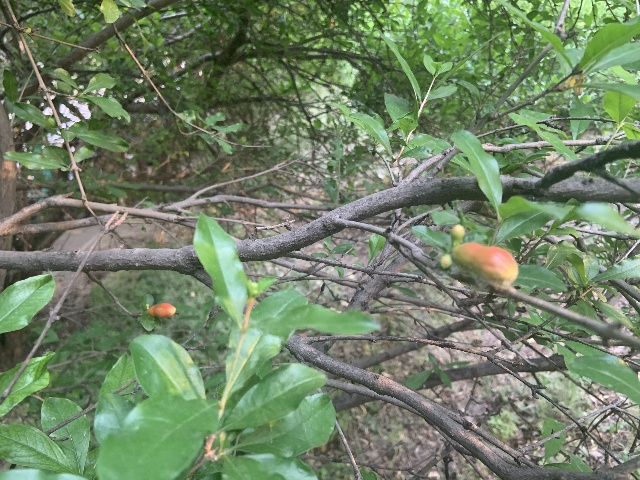bud: (452, 242, 517, 285), (146, 302, 176, 317), (451, 224, 464, 242), (440, 254, 451, 268)
